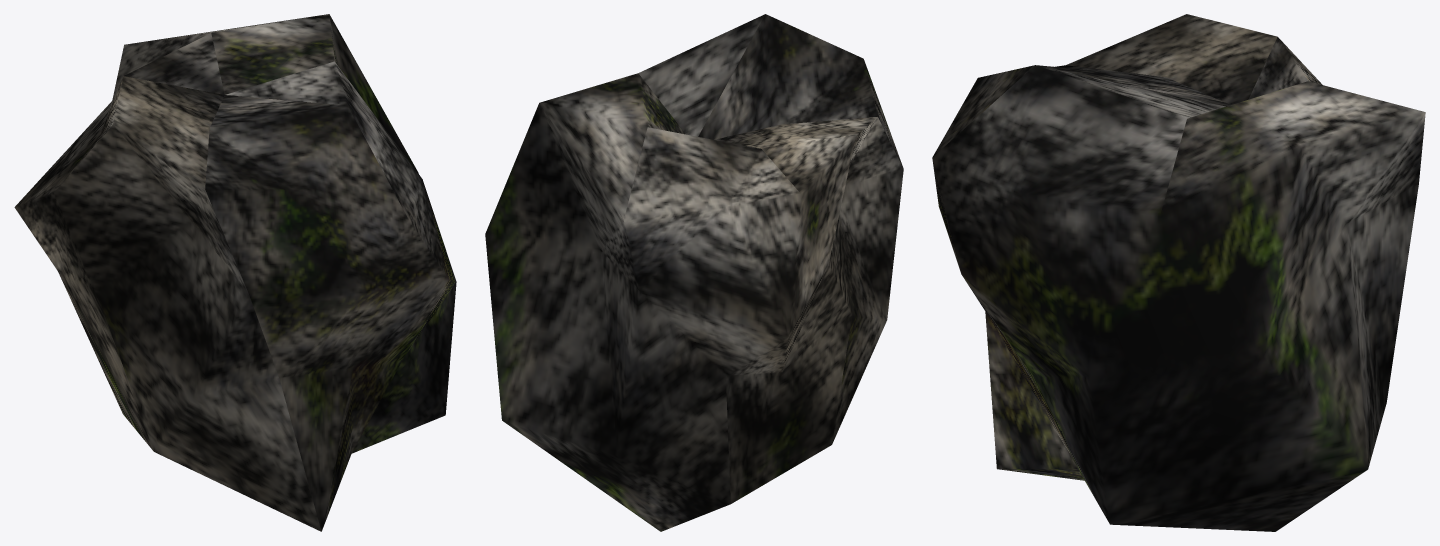
File: Stone1.gltf
3 renders of one model, left to right at view 1: azimuth 30°, elevation 25°; view 2: azimuth 150°, elevation 25°; view 3: azimuth 270°, elevation 25°, orthographic. The views are drawn at different scales.
Visible parts, largest first — view 1: Icosphere; view 2: Icosphere; view 3: Icosphere.
Part boxes in pixels (bbox=[...]): Icosphere: bbox=[14, 14, 456, 531]; Icosphere: bbox=[485, 14, 903, 531]; Icosphere: bbox=[932, 14, 1425, 531].
Size of the model in its own units: 2.69 by 3.19 by 3.03.
